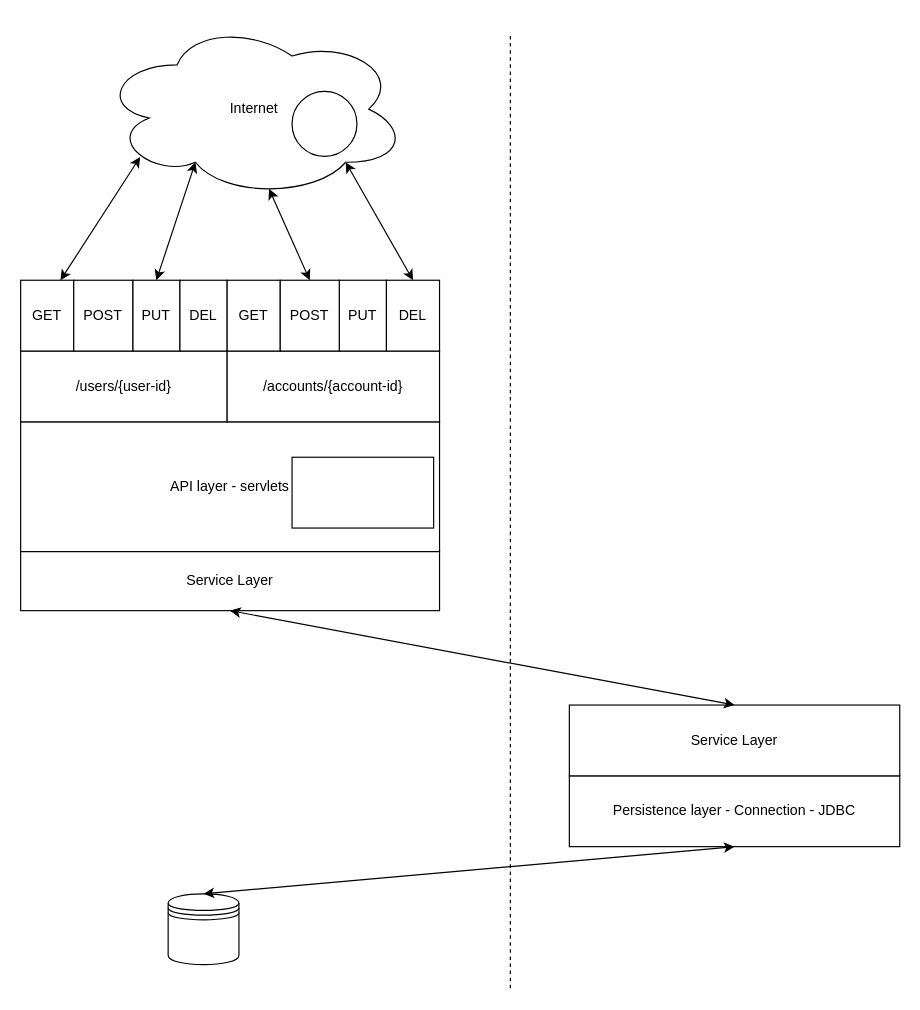
The diagram is 920 pixels wide and 1010 high, and some of its shapes have lost their labels. Each missing label, with the centre of its shape:
"MariaDB" belongs at point 203,929.
"postman" belongs at point 324,123.
"Servlet config/mapping" belongs at point 362,492.
